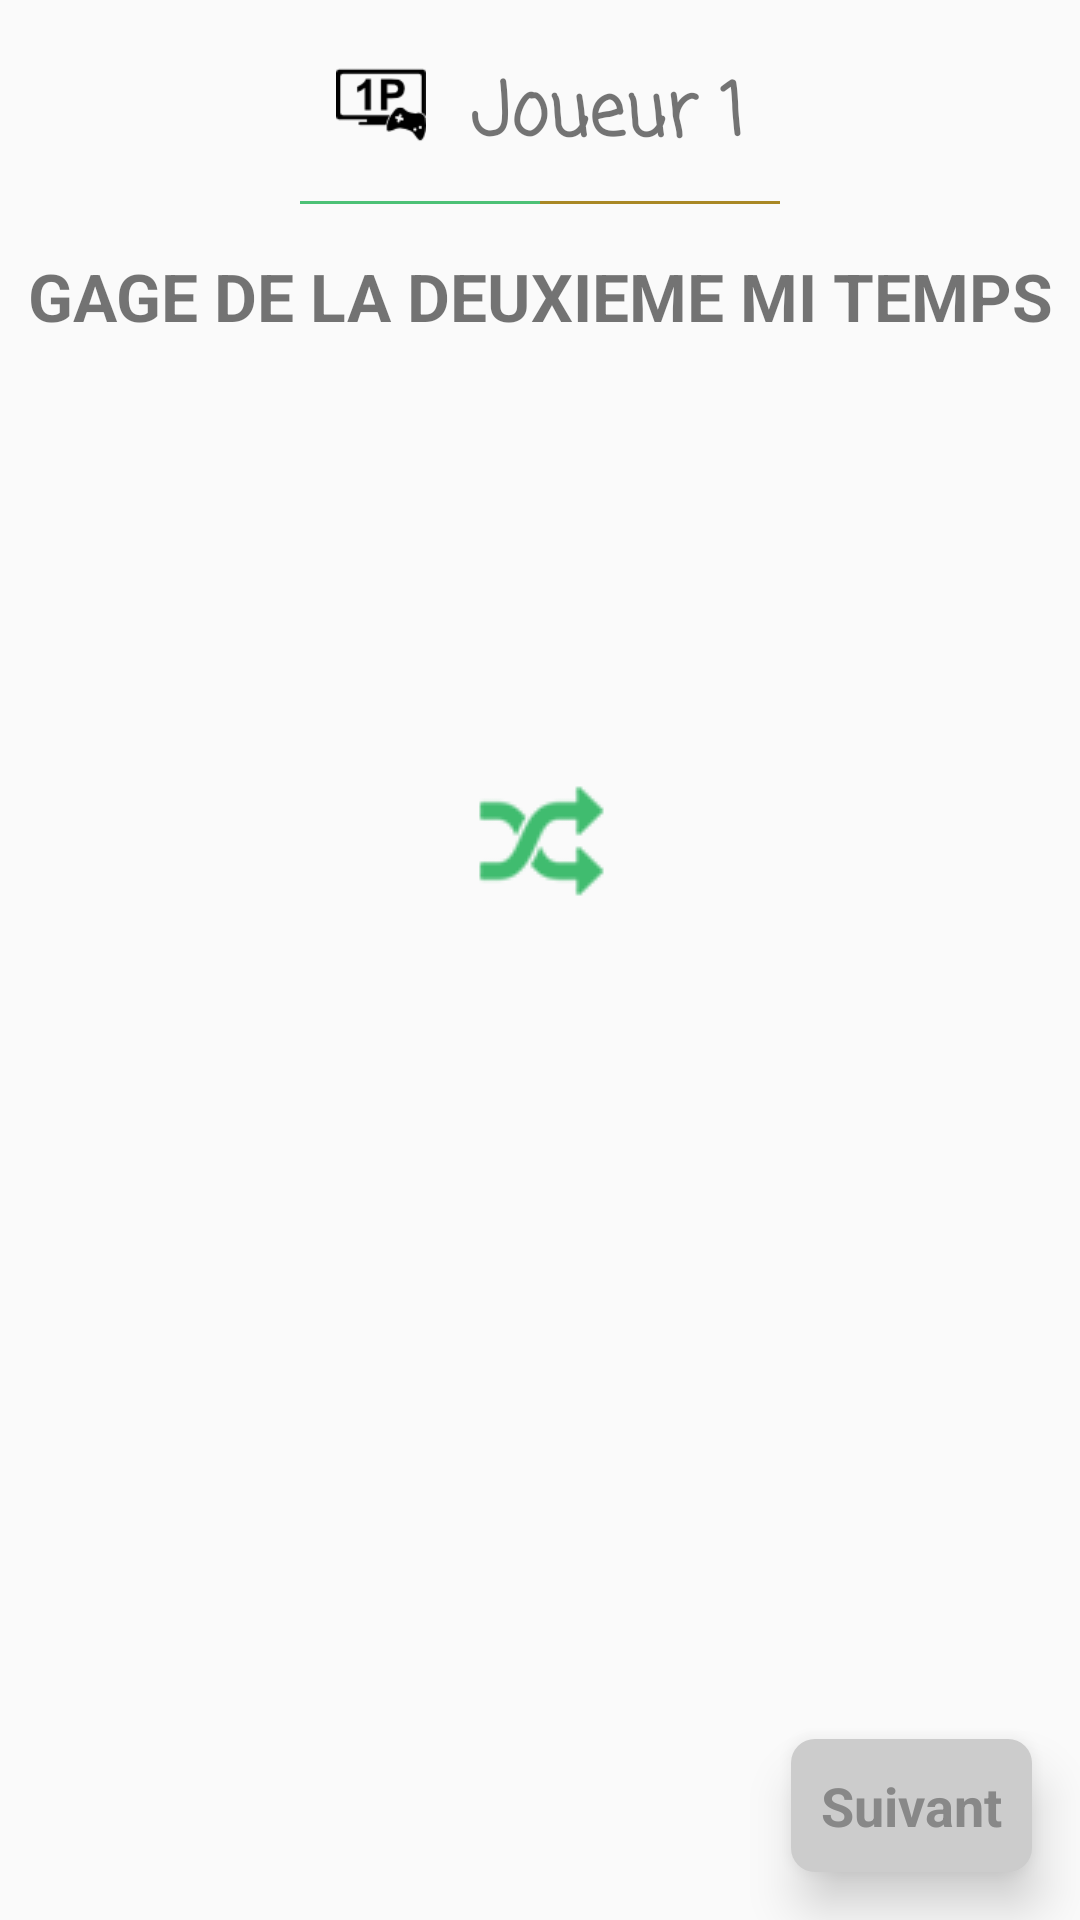

Named icons in this screenshot (1080x1920) and their bounding boxes, (x1=x1, y1=y1, x2=x2, y2=y2):
one player game: (x1=336, y1=68, x2=426, y2=141)
roll: (x1=479, y1=786, x2=604, y2=896)
